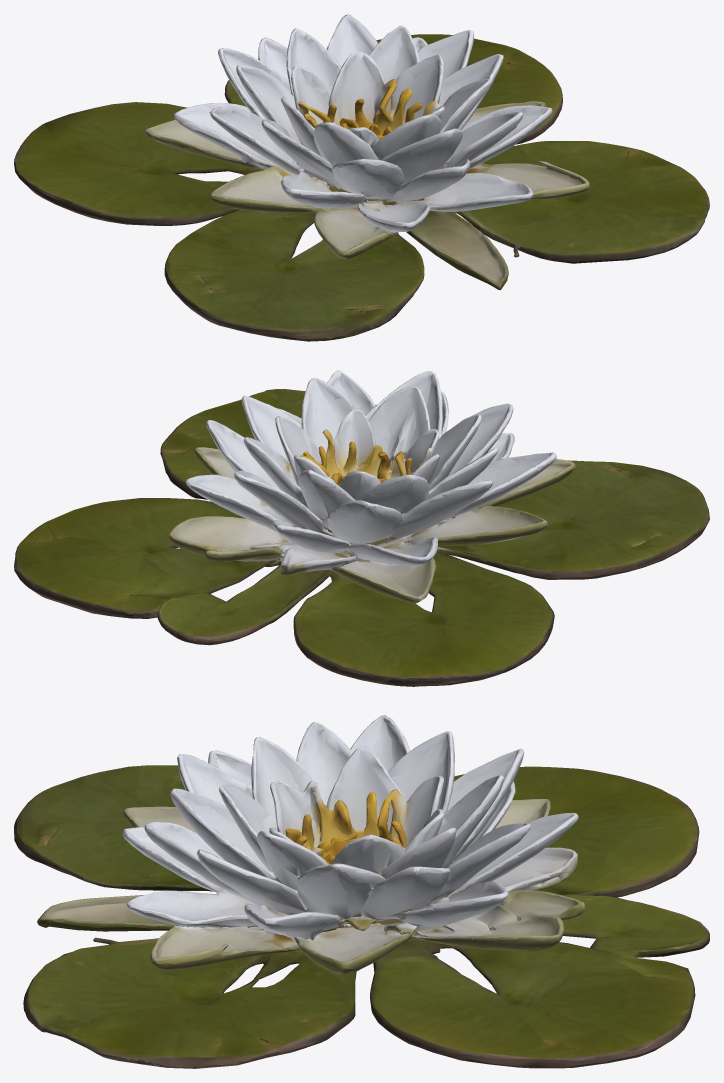
Rendered from water-lily-pad-v21-lod.glb.
The picture shows the model from 3 angles, top to bottom: view 1: azimuth 30°, elevation 25°; view 2: azimuth 150°, elevation 25°; view 3: azimuth 270°, elevation 25°; orthographic projection. The views are drawn at different scales.
Visible parts, largest first — view 1: geometry_0; view 2: geometry_0; view 3: geometry_0.
Boxes of the visible parts, <box> form: geometry_0: <box>14,14,709,341</box>; geometry_0: <box>14,370,709,686</box>; geometry_0: <box>14,715,709,1068</box>.
Size of the model in its own units: 0.2498 by 0.0578 by 0.2498.
Materials: 1 (1 with a texture image).
